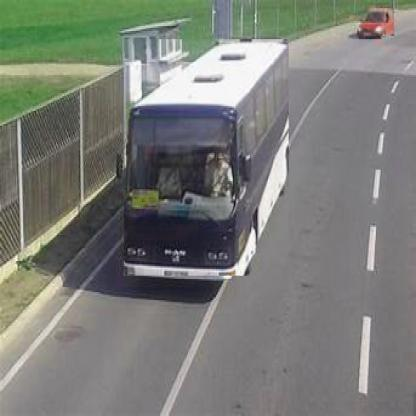bus: (125, 40, 291, 278)
car: (358, 9, 397, 39)
